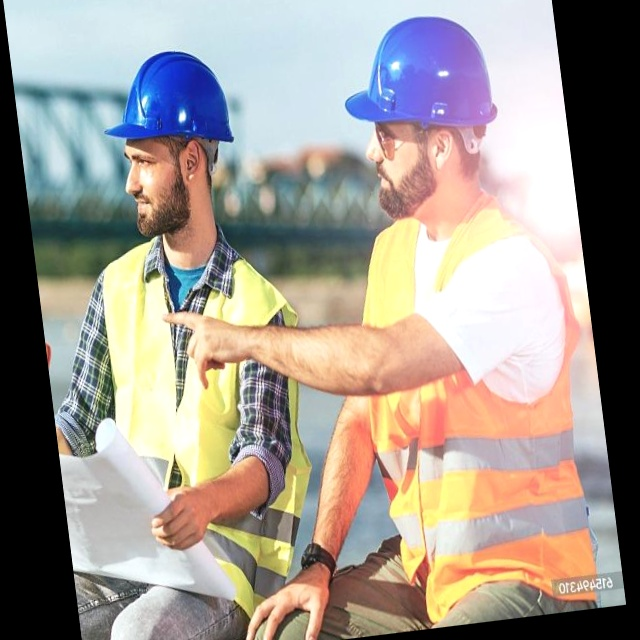Con_Casco: (334, 10, 508, 225), (93, 44, 248, 244)
Con_Chaleco: (343, 202, 600, 597), (96, 231, 304, 607)
